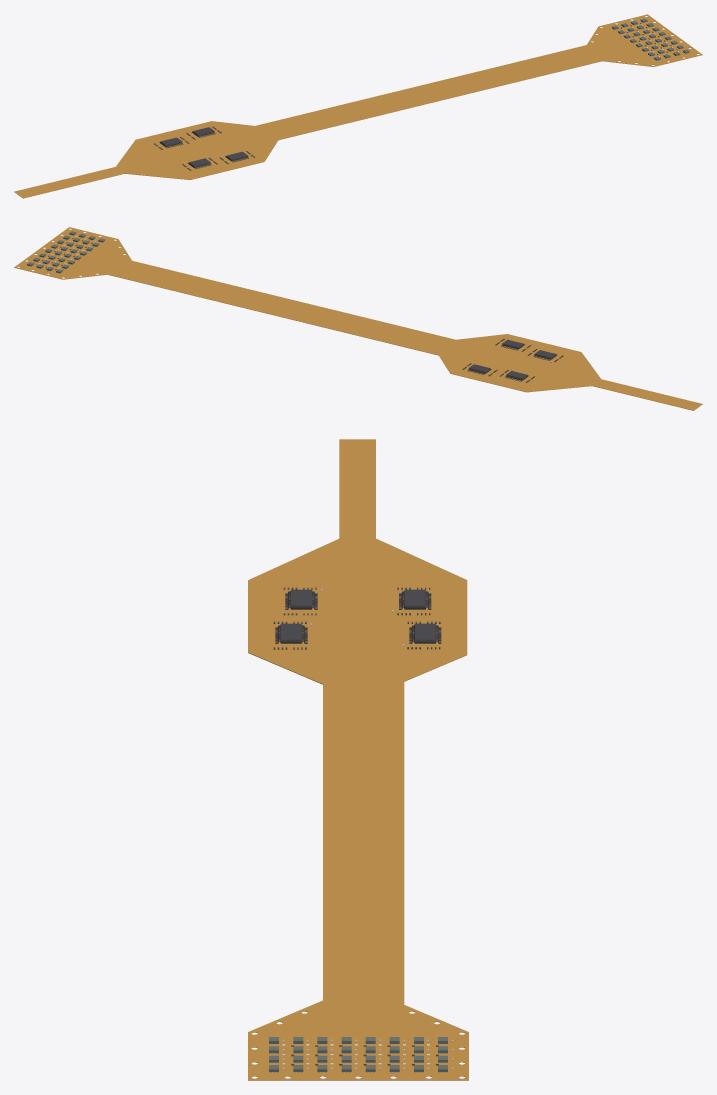
Rendered from board-4x8.glb.
The picture shows the model from 3 angles, top to bottom: view 1: azimuth 30°, elevation 25°; view 2: azimuth 150°, elevation 25°; view 3: azimuth 270°, elevation 25°; orthographic projection. The views are drawn at different scales.
Parts seen in each view (by area): view 1: PCB; view 2: PCB; view 3: PCB.
Boxes of the visible parts, x1,y1,x2,y2 form: PCB: [14, 14, 702, 198]; PCB: [14, 227, 702, 410]; PCB: [248, 439, 468, 1080].
Bounding box in the file's own units: 0.3013 × 0.00115 × 0.0439.
